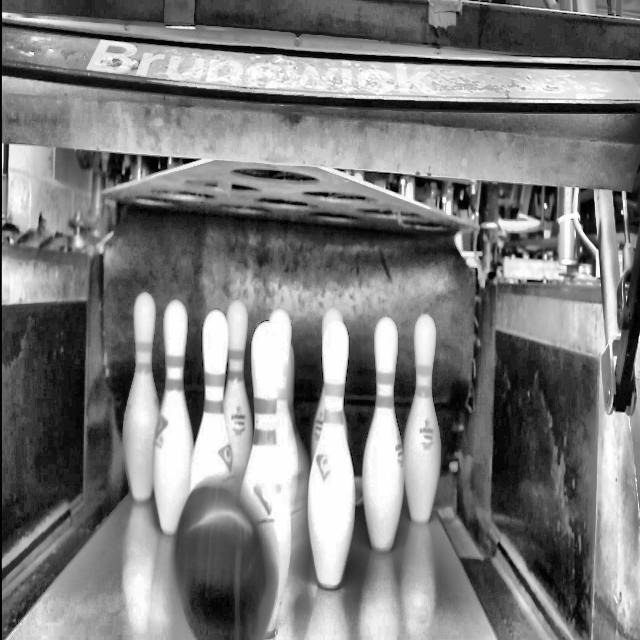bowling-ball: (174, 485, 268, 640)
bowling-pins: (241, 321, 291, 636), (308, 320, 356, 589), (363, 316, 404, 553), (153, 300, 193, 534), (189, 309, 232, 492), (404, 314, 441, 523), (123, 293, 158, 501), (270, 308, 299, 512), (224, 300, 252, 474)
